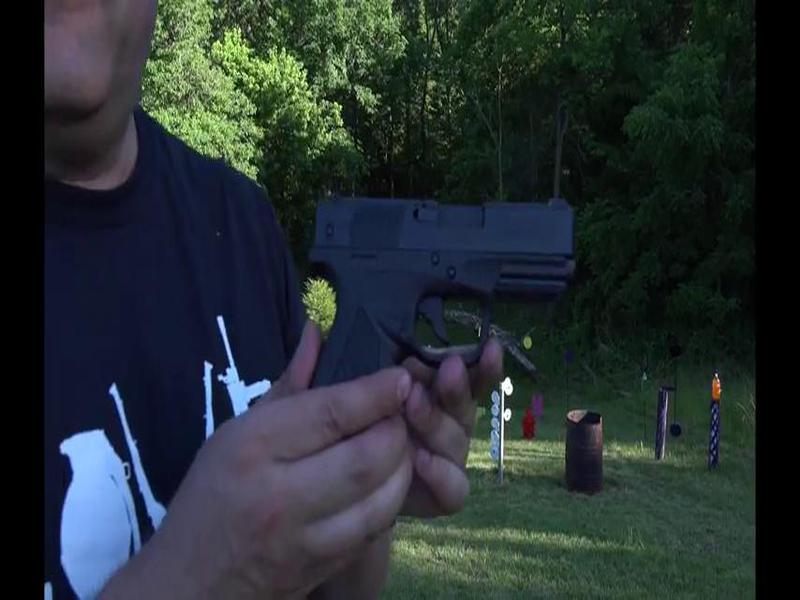Pistola: (283, 174, 611, 395)
